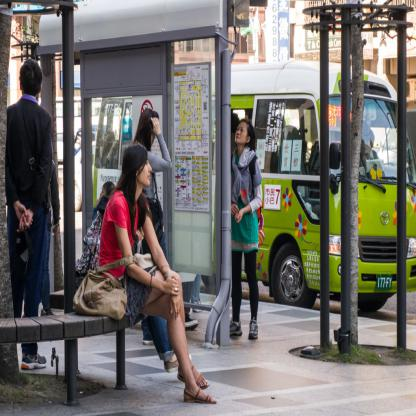Bus: (87, 59, 416, 313)
